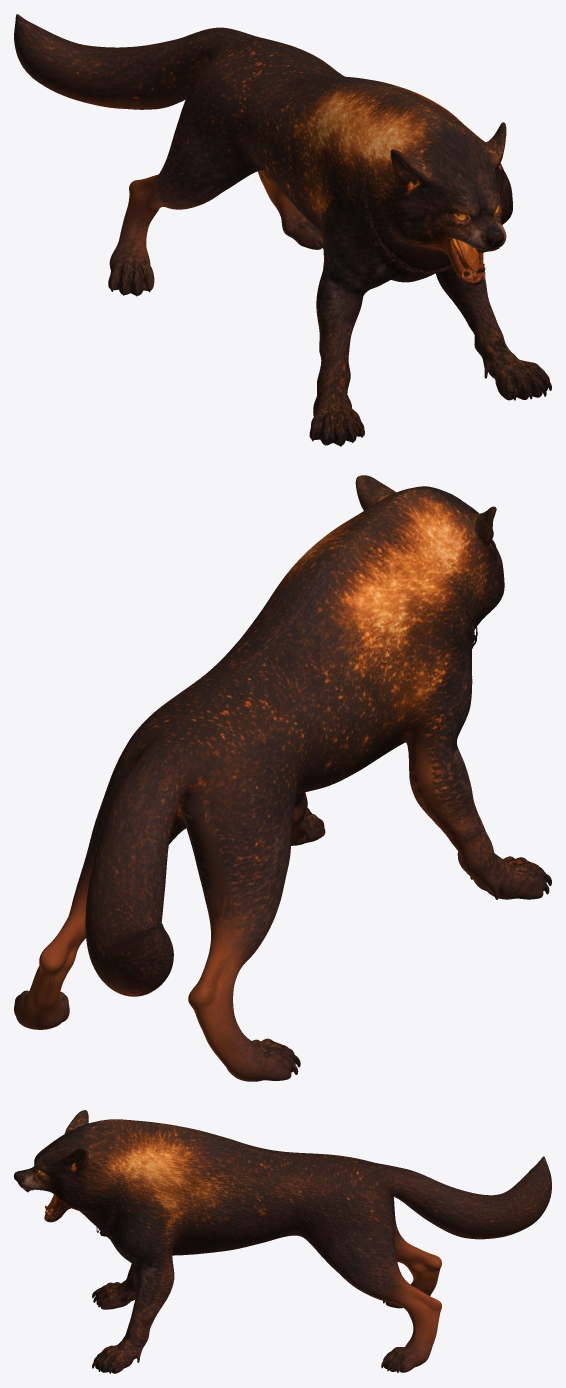
Rendered from enemy_beast_hell_hound_01.glb.
3 views of the same model, one above another, from view 1: azimuth 30°, elevation 25°; view 2: azimuth 150°, elevation 25°; view 3: azimuth 270°, elevation 25° (orthographic). The views are drawn at different scales.
Visible parts, largest first — view 1: material; view 2: material; view 3: material.
Boxes of the visible parts, x1,y1,x2,y2 form: material: [14, 14, 551, 446]; material: [14, 475, 551, 1081]; material: [14, 1110, 551, 1373].
Size of the model in its own units: 0.4151 by 0.5084 by 1.15.
1 material, 1 textured.
